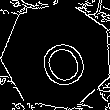O_NW: (25, 23, 89, 88)
